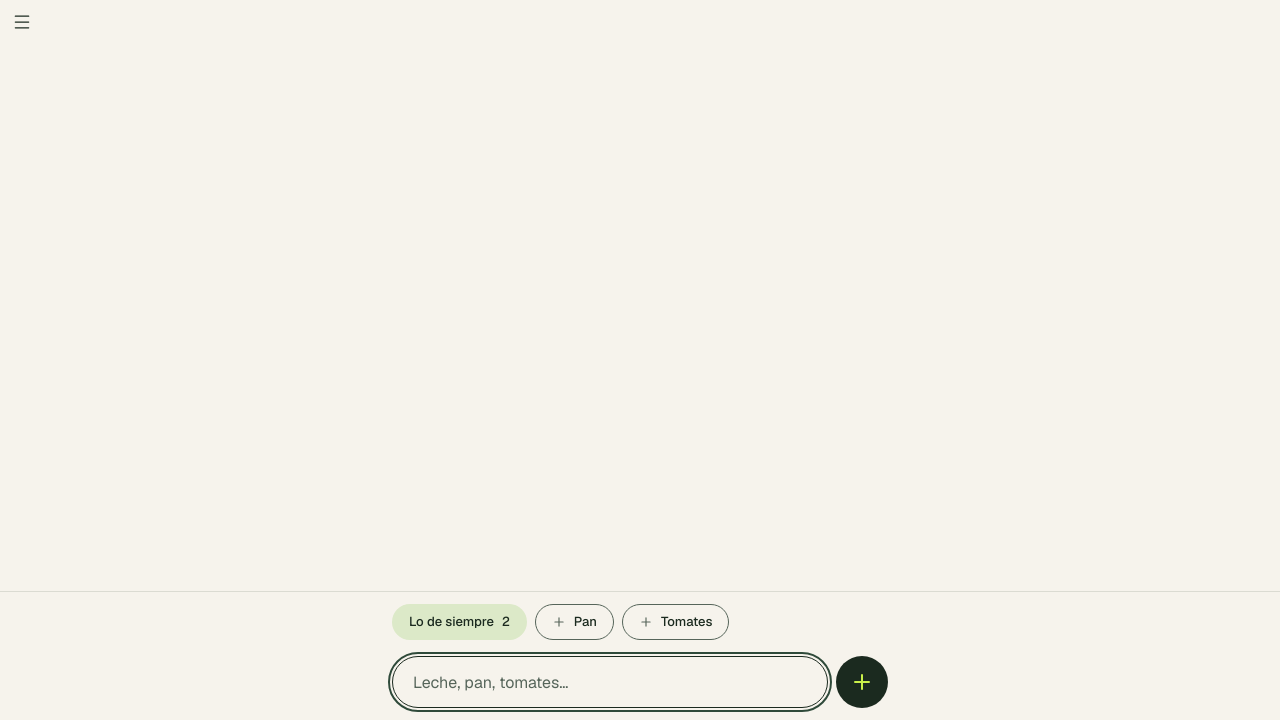
Test: Compras anteriores › says where the trips will be while there is none
Click the button named "Abrir menú" at (22, 22), box [0, 0, 44, 44]
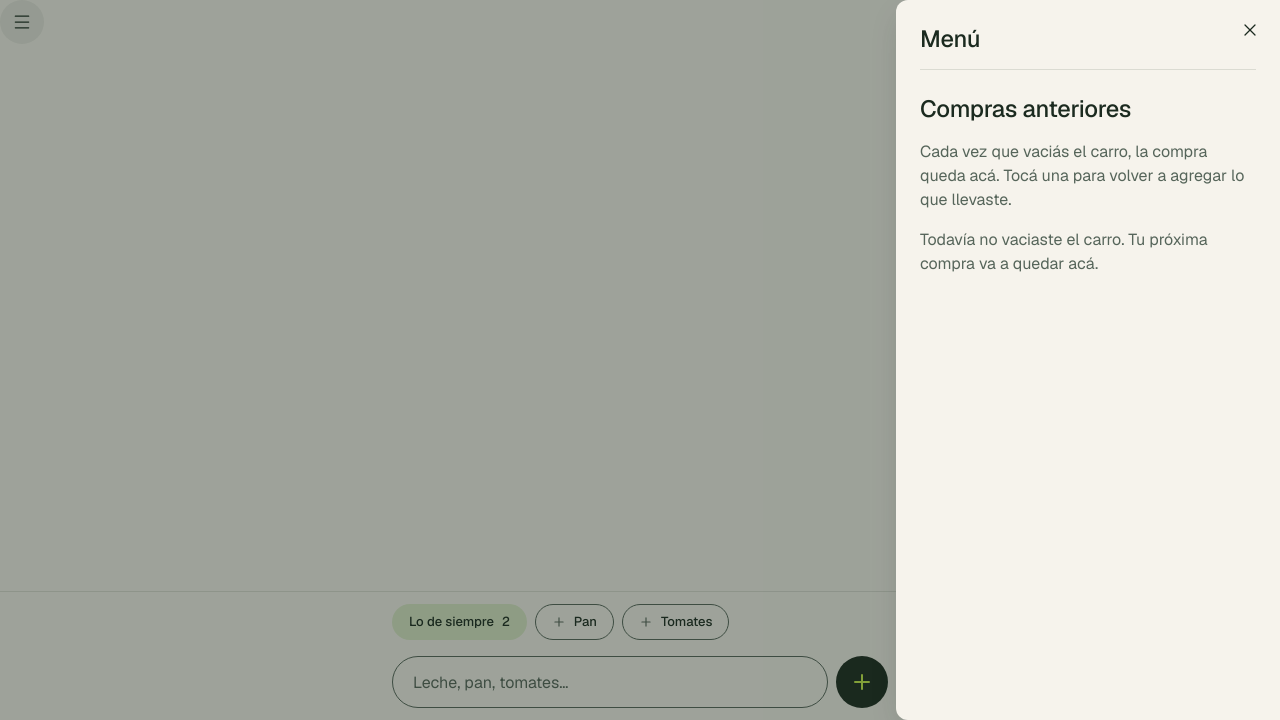
expect the element "Compras anteriores" shows "Todavía no vaciaste el carro. Tu próxima compra va a quedar acá.": met, box [920, 229, 1208, 274]
